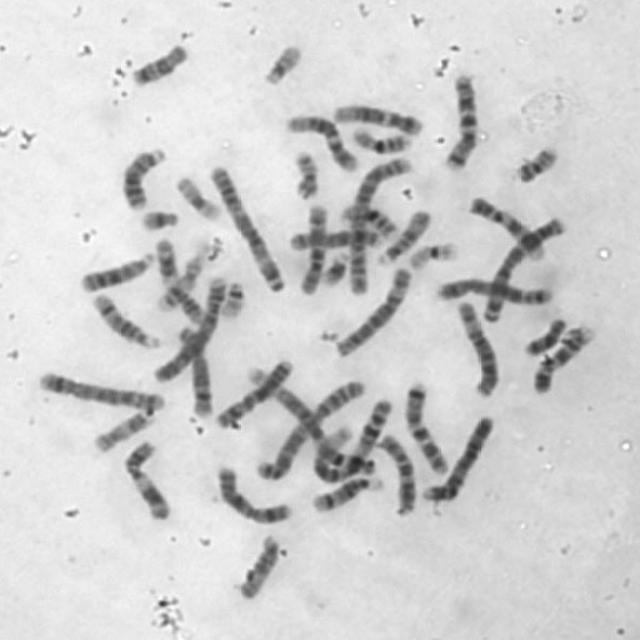A1: (242, 363, 378, 478), (310, 392, 396, 484)
A2: (248, 378, 370, 482), (343, 150, 418, 297)
A3: (205, 159, 288, 294), (479, 211, 570, 325)
B4: (150, 269, 232, 384), (418, 410, 498, 506)
B5: (32, 366, 168, 412), (430, 271, 556, 307)
C10: (373, 428, 419, 516), (294, 198, 331, 295)
C11: (150, 232, 208, 324), (119, 434, 174, 522)
C12: (280, 107, 361, 174), (328, 97, 427, 137)
C6: (330, 260, 416, 360), (452, 294, 503, 399)
C7: (399, 374, 452, 476), (438, 66, 482, 174)
C8: (173, 320, 216, 420), (283, 224, 386, 253)
C9: (463, 191, 548, 262), (526, 319, 599, 396)
D13: (75, 245, 159, 293), (116, 141, 170, 211)
D14: (86, 287, 164, 350), (308, 472, 388, 514)
D15: (373, 203, 433, 267), (230, 529, 282, 601)
E16: (336, 198, 402, 240), (347, 121, 414, 155)
E17: (157, 248, 211, 315), (88, 403, 156, 454)
E18: (126, 37, 192, 87), (520, 312, 571, 358)
F19: (170, 170, 225, 222), (404, 236, 462, 271)
F20: (509, 139, 562, 185), (288, 145, 322, 201)
G21: (317, 245, 351, 288), (135, 203, 183, 233)
G22: (257, 38, 306, 88), (215, 276, 249, 320)
X: (210, 353, 296, 430), (211, 459, 295, 527)
